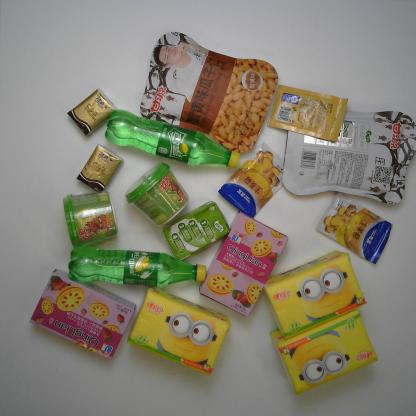Dessert: (28, 268, 137, 361), (198, 209, 289, 318)
Dried Fruit: (138, 31, 280, 154), (282, 110, 416, 206)
Drink: (104, 109, 241, 170), (67, 244, 207, 290)
Instant Drink: (124, 161, 189, 227), (62, 190, 118, 248)
Milk: (162, 200, 230, 261)
Seasoner: (316, 192, 394, 265), (217, 141, 285, 219), (267, 83, 349, 142)
Tissue: (263, 249, 368, 341), (270, 308, 379, 396), (126, 286, 232, 376), (66, 87, 116, 137), (76, 143, 124, 192)
